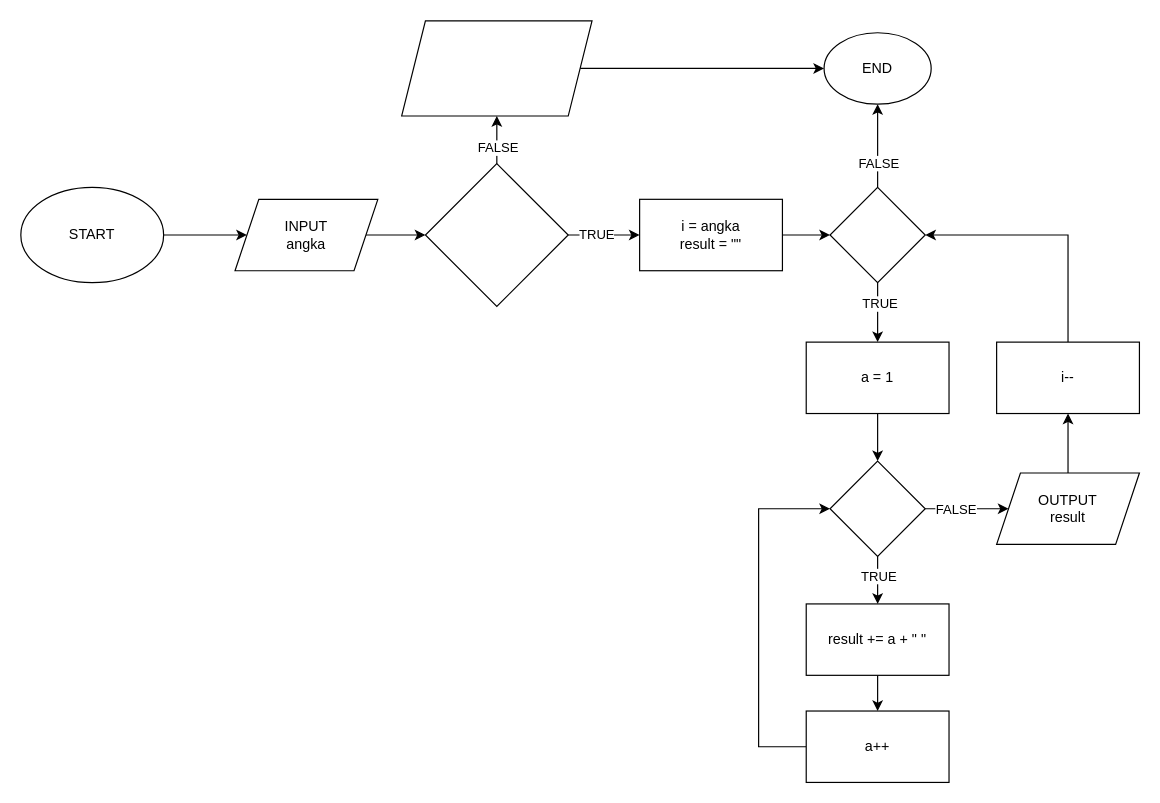
This 1160x803 diagram has some shape labels left out. The shapes that lost their labels are listed below. From the top down, each one's centre as x and y in pixels, then its label:
point 496,68: OUTPUT "data harus number"
point 496,234: angka == number
point 877,234: i > 0
point 877,508: a <= i
